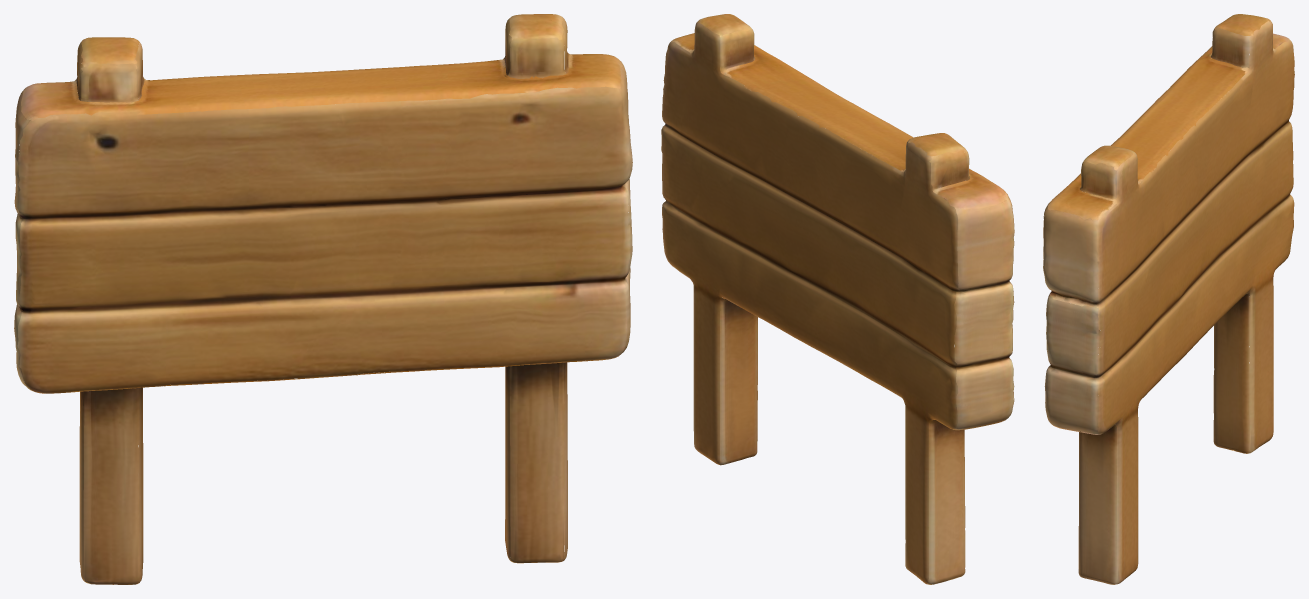
Rendered from sign.glb.
The picture shows the model from 3 angles, left to right: view 1: azimuth 30°, elevation 25°; view 2: azimuth 150°, elevation 25°; view 3: azimuth 270°, elevation 25°; orthographic projection. The views are drawn at different scales.
Parts seen in each view (by area): view 1: tmp67jbpj0w.ply; view 2: tmp67jbpj0w.ply; view 3: tmp67jbpj0w.ply.
Boxes of the visible parts, <box> form: tmp67jbpj0w.ply: <box>14,14,632,584</box>; tmp67jbpj0w.ply: <box>661,14,1014,584</box>; tmp67jbpj0w.ply: <box>1043,14,1294,584</box>.
Size of the model in its own units: 1.38 by 1.35 by 0.725.
Materials: 1 (1 with a texture image).
